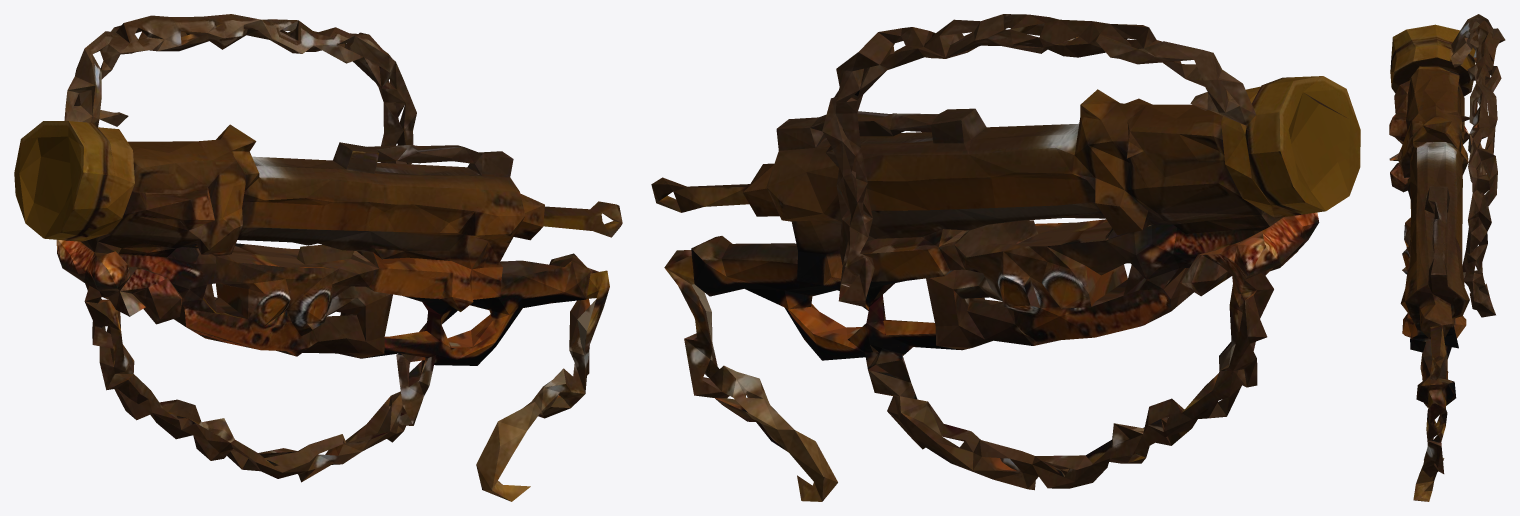
File: chain_launcher.glb
The picture shows the model from 3 angles, left to right: view 1: azimuth 30°, elevation 25°; view 2: azimuth 150°, elevation 25°; view 3: azimuth 270°, elevation 25°; orthographic projection. The views are drawn at different scales.
Visible parts, largest first — view 1: tmp79fl8e2g.ply; view 2: tmp79fl8e2g.ply; view 3: tmp79fl8e2g.ply.
Boxes of the visible parts, x1,y1,x2,y2 form: tmp79fl8e2g.ply: [14, 14, 622, 501]; tmp79fl8e2g.ply: [651, 14, 1360, 501]; tmp79fl8e2g.ply: [1389, 14, 1505, 501].
Size of the model in its own units: 1.99 by 1.69 by 0.4869.
Materials: 1 (1 with a texture image).
